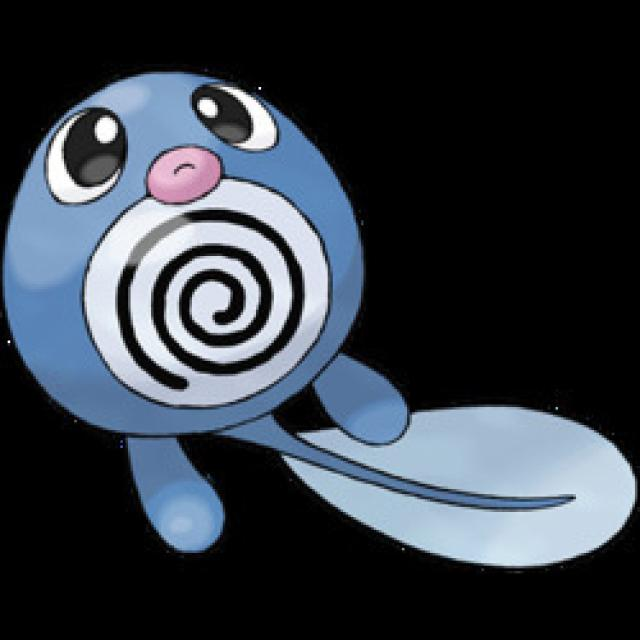Poliwag: (10, 61, 362, 486)
